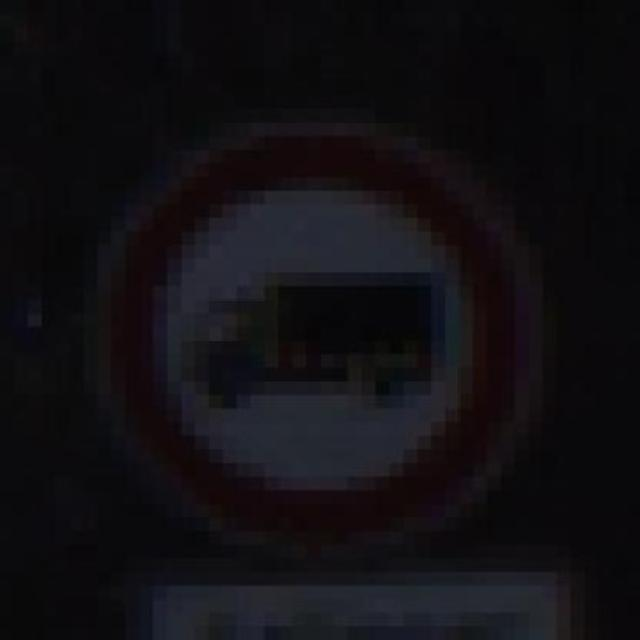Truck traffic is prohibited: (69, 123, 557, 559)
